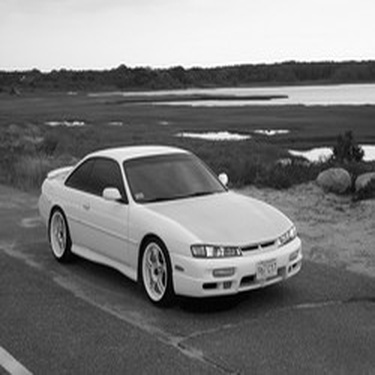car: (38, 131, 305, 302)
